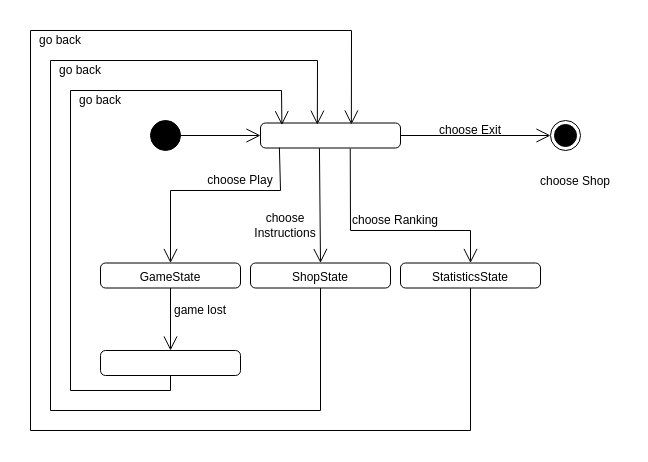
This 648x462 diagram has some shape labels left out. The centre of each missing label's shape, as x and y in pixels:
GameOverState: the point at 170,363
MainMenuState: the point at 330,135
